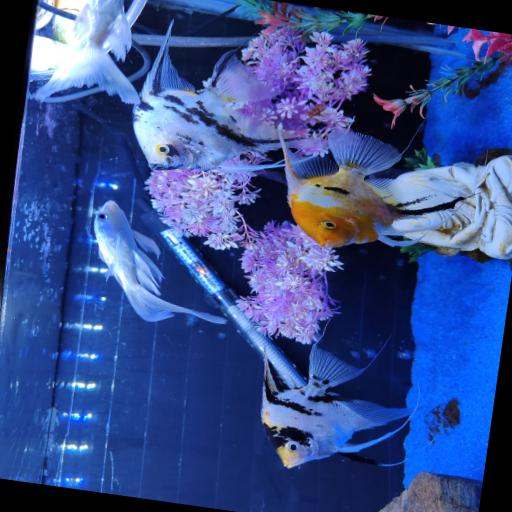Fish: (134, 21, 282, 170), (281, 129, 440, 247), (262, 343, 413, 467), (94, 200, 226, 323), (279, 129, 400, 247), (36, 0, 140, 103)
